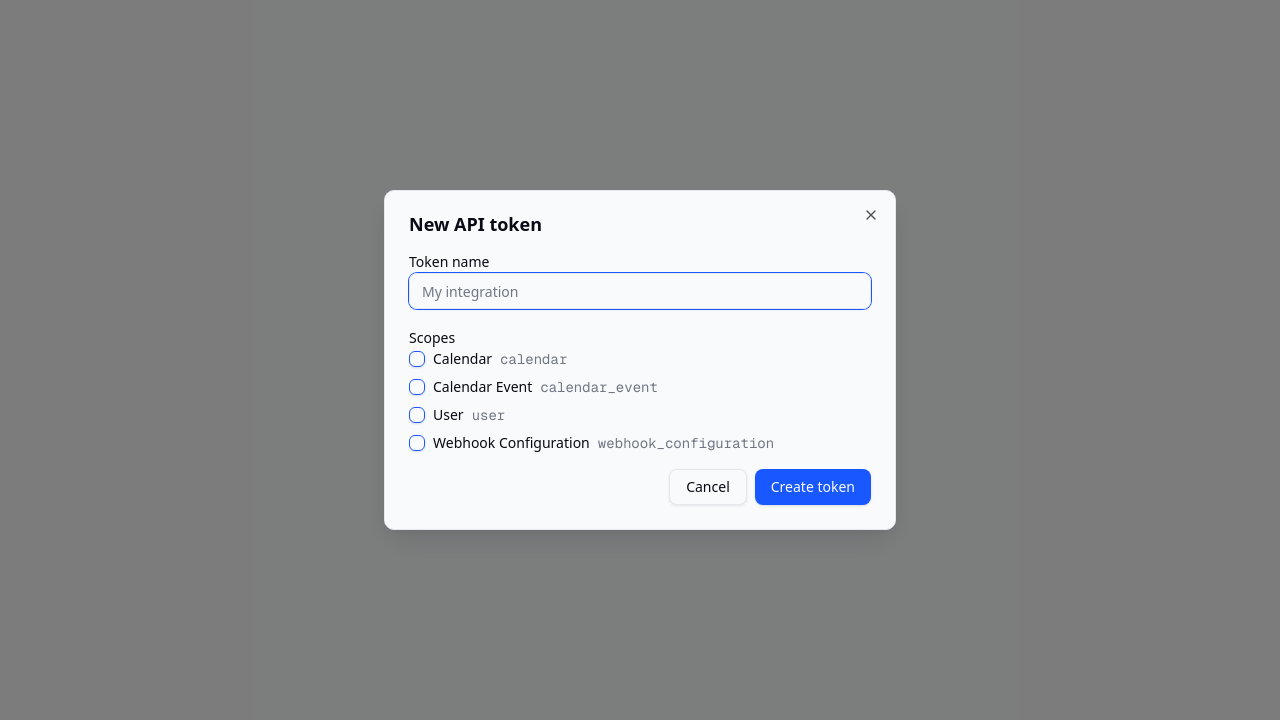
Scenario: NewTokenDialog › credential does NOT appear in the refetched token list (list returns metadata only)
Type "Integration 3" into the field with placeholder "My integration" at (640, 291), box [409,273,871,309]
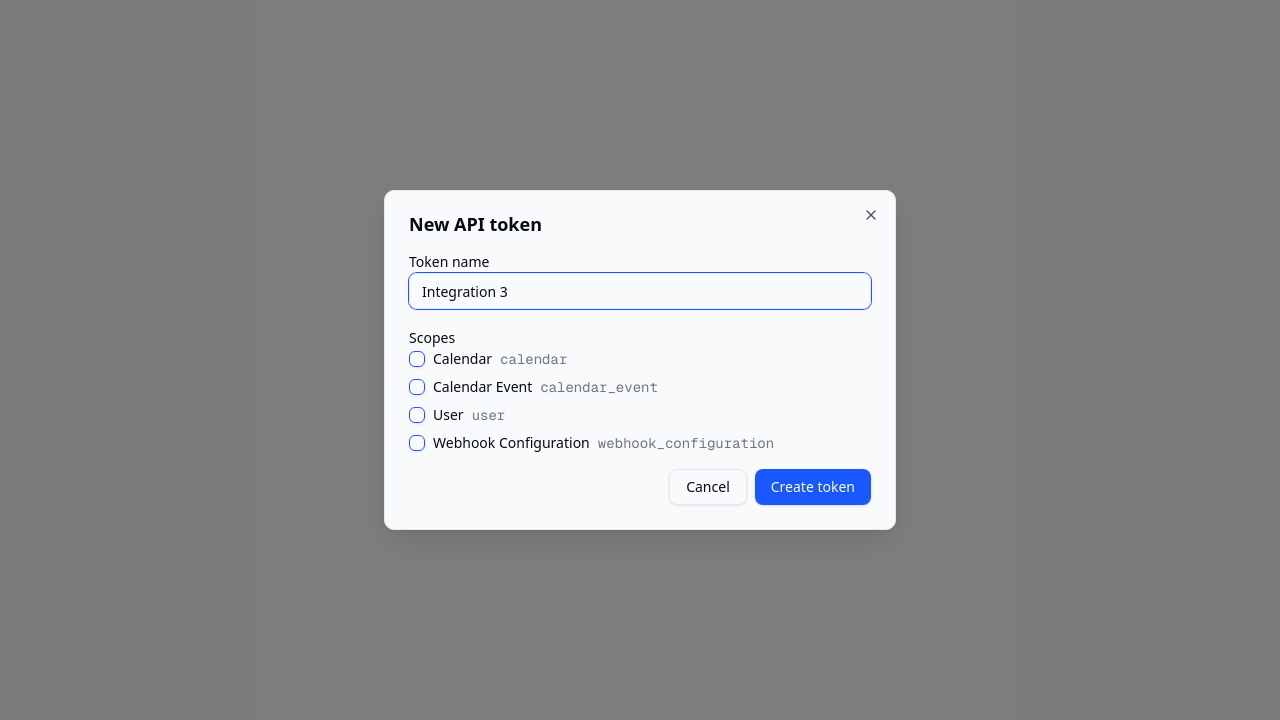
Click the checkbox with test id "scope-checkbox-calendar" at (417, 359), box [409,351,425,367]
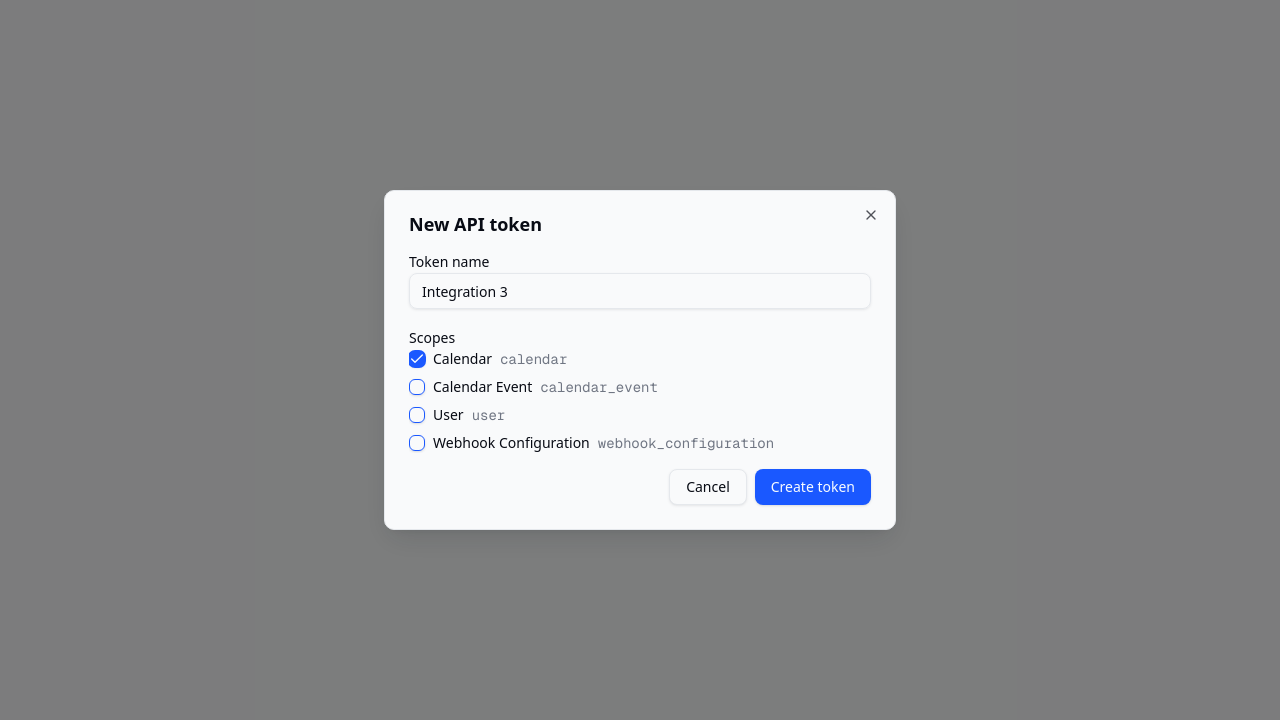
Click the button with test id "create-token-submit" at (813, 487), box [755,469,871,505]
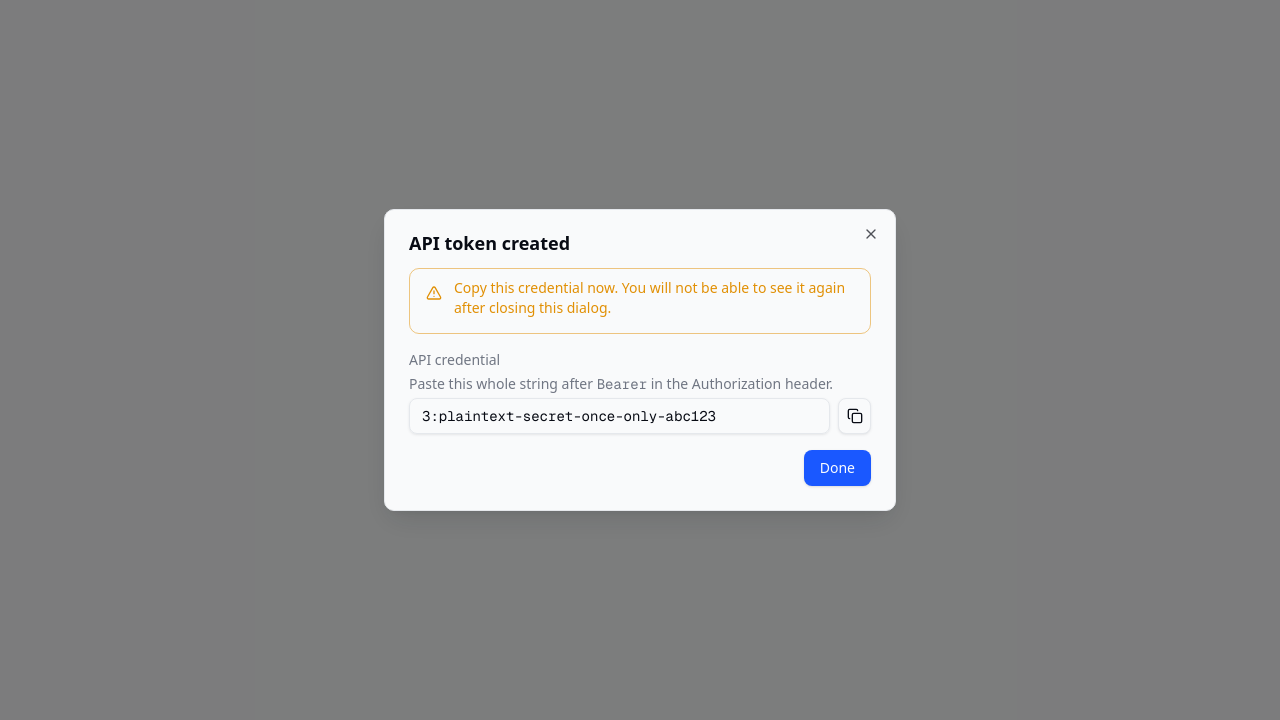
Result: the heading "API token created" is shown at [409,231,570,255]
